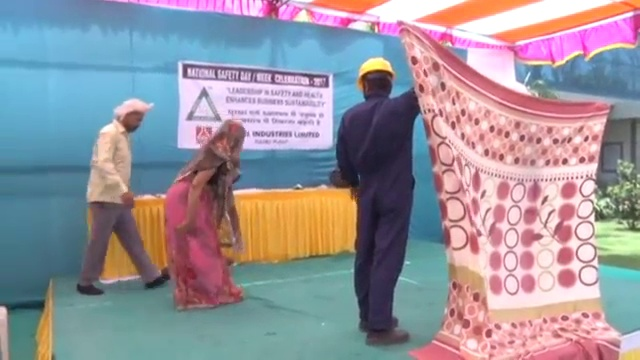helmet: (356, 56, 395, 88)
helmet_off: (113, 99, 151, 133), (216, 120, 246, 150)
helmet_on: (356, 56, 395, 106)
person: (334, 56, 422, 347), (78, 98, 168, 298), (167, 119, 249, 309)
